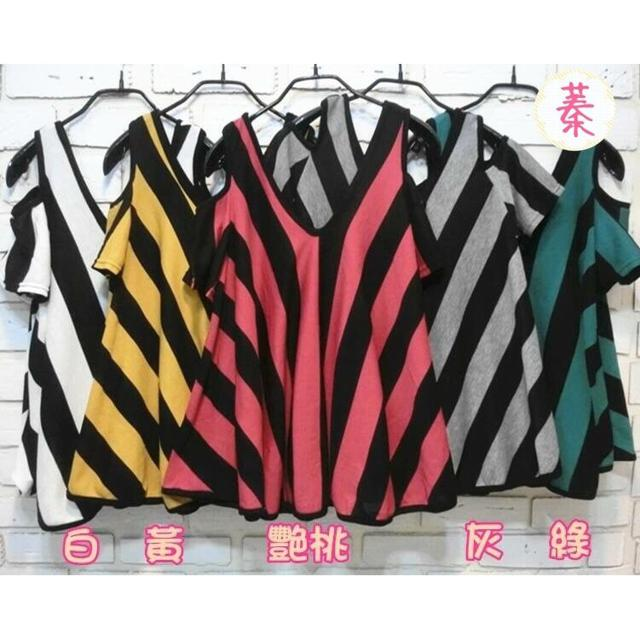Tops: (187, 116, 452, 509)
